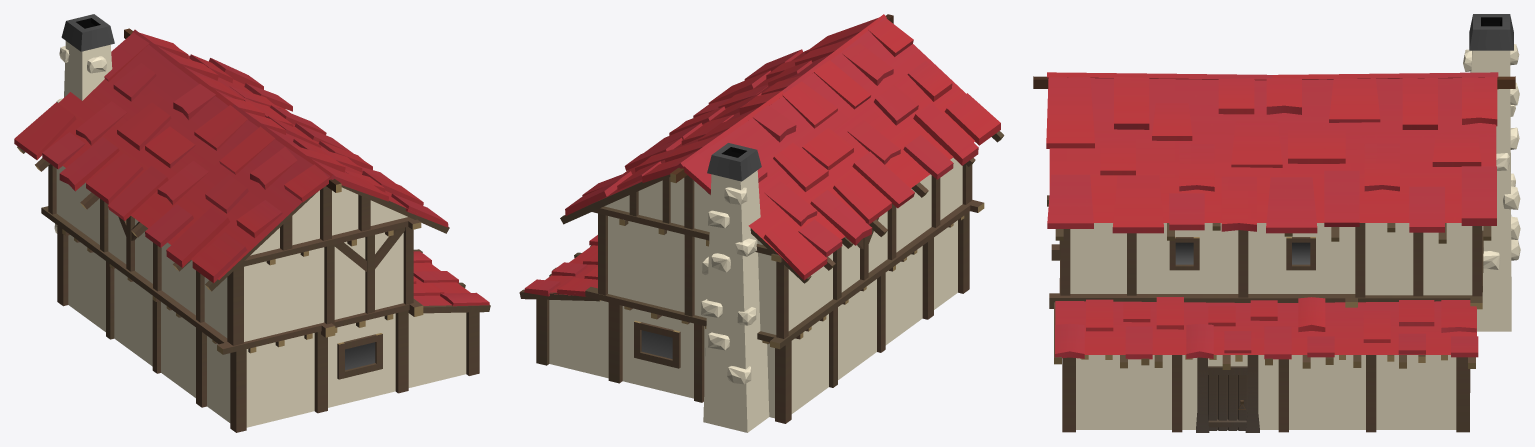
The model's file is House_5.fbx.
3 views of the same model, side by side, from view 1: azimuth 30°, elevation 25°; view 2: azimuth 150°, elevation 25°; view 3: azimuth 270°, elevation 25° (orthographic). The views are drawn at different scales.
Visible parts, largest first — view 1: polySurface9614; view 2: polySurface9614; view 3: polySurface9614.
Part boxes in pixels (x1,y1,x2,y2): polySurface9614: (14, 14, 490, 432); polySurface9614: (519, 14, 1004, 432); polySurface9614: (1033, 14, 1520, 432).
Size of the model in its own units: 980 by 834 by 1238.
